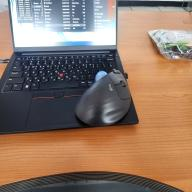mouse: (75, 68, 132, 126)
